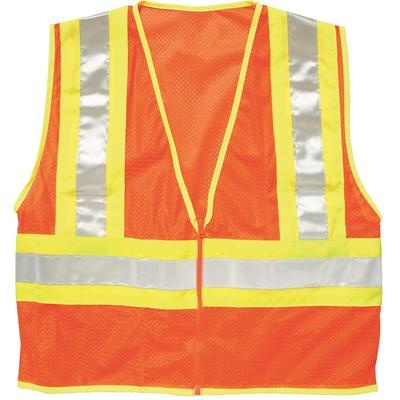safety vest: (19, 8, 377, 391)
